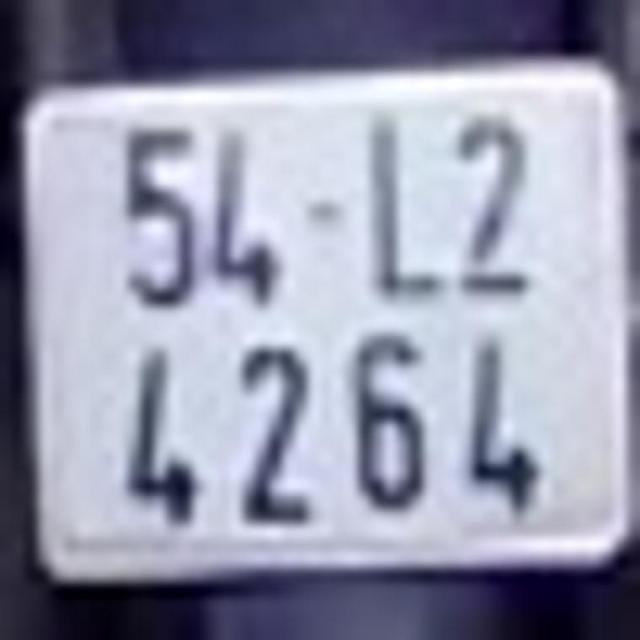2: (455, 110, 536, 294), (237, 347, 315, 522)
4: (462, 331, 542, 520), (131, 344, 202, 533), (212, 123, 280, 311)
5: (122, 121, 193, 313)
6: (344, 319, 427, 508)
L: (359, 100, 444, 300)
